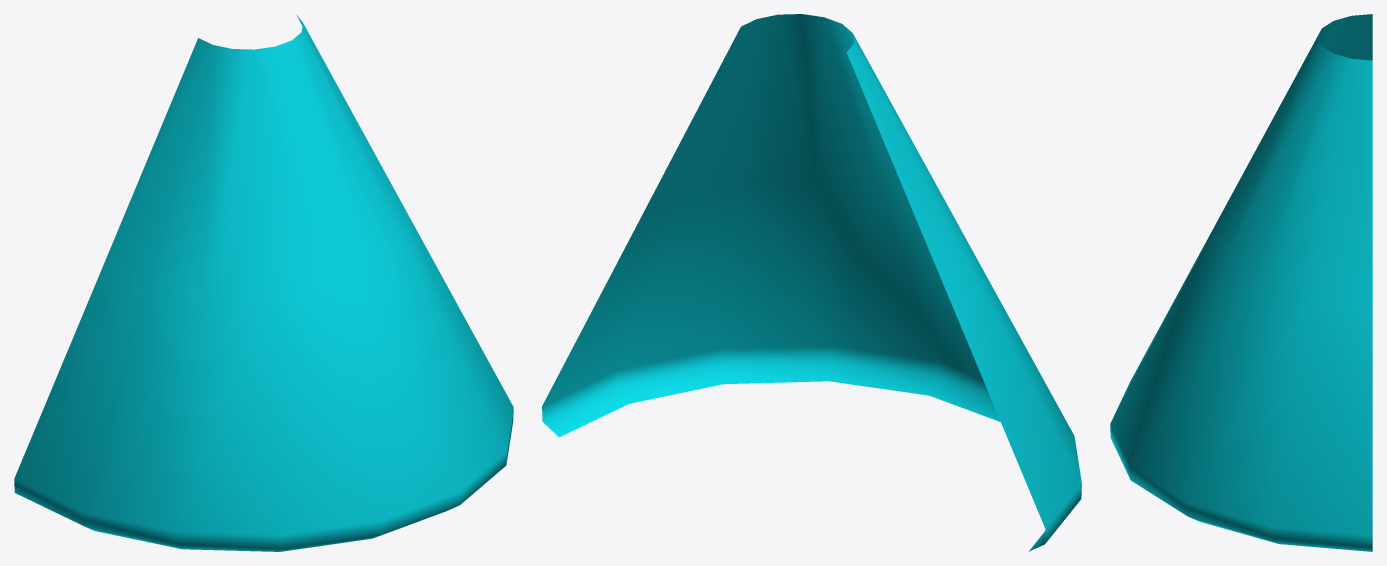
Rendered from PotionLiquid_Elixar.fbx.
3 renders of one model, left to right at view 1: azimuth 30°, elevation 25°; view 2: azimuth 150°, elevation 25°; view 3: azimuth 270°, elevation 25°, orthographic. The views are drawn at different scales.
Visible parts, largest first — view 1: PotionLiquid_Elixar; view 2: PotionLiquid_Elixar; view 3: PotionLiquid_Elixar.
Boxes of the visible parts, left/top/right/bottom form: PotionLiquid_Elixar: left=14, top=15, right=513, bottom=551; PotionLiquid_Elixar: left=542, top=14, right=1081, bottom=551; PotionLiquid_Elixar: left=1110, top=14, right=1372, bottom=551.
Bounding box in the file's own units: 66.52 × 57.47 × 33.26.
